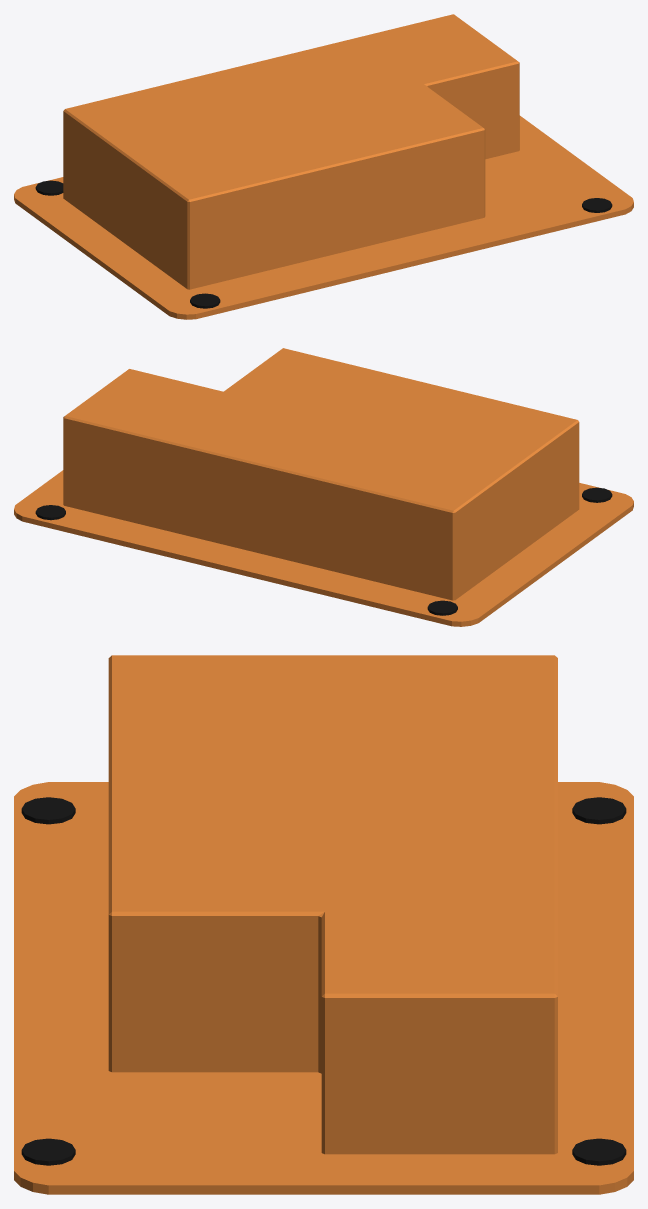
File: 09_Caisse.fbx
The picture shows the model from 3 angles, top to bottom: view 1: azimuth 30°, elevation 25°; view 2: azimuth 150°, elevation 25°; view 3: azimuth 270°, elevation 25°; orthographic projection. The views are drawn at different scales.
Parts seen in each view (by area): view 1: Caisse; view 2: Caisse; view 3: Caisse.
Part boxes in pixels (x1,y1,x2,y2): Caisse: (14,14,633,319); Caisse: (14,348,633,626); Caisse: (14,655,633,1194).
Size of the model in its own units: 70.78 by 13.79 by 45.96.
